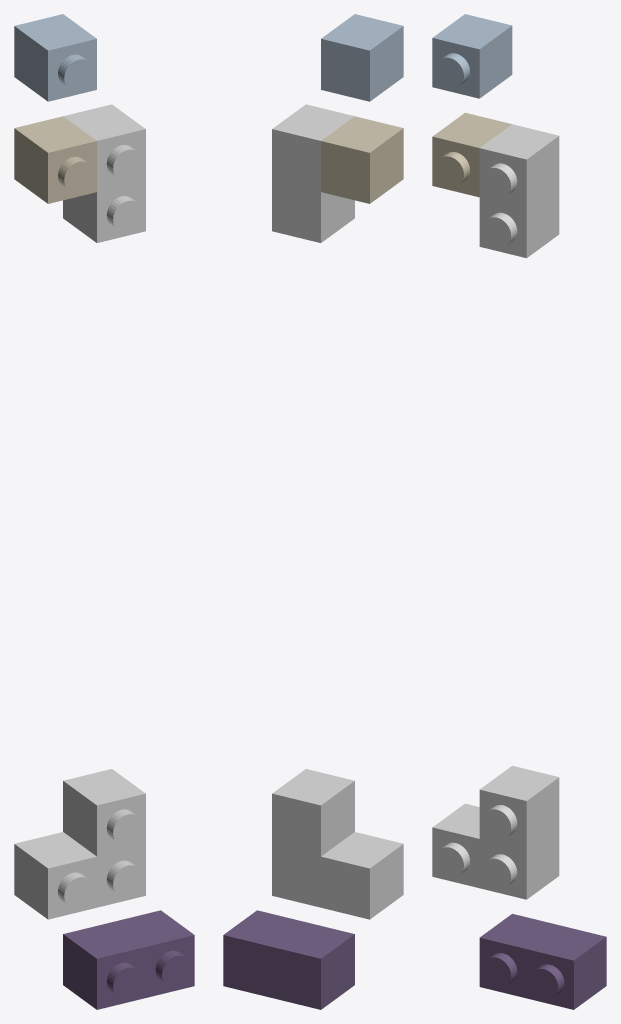
The model's file is current.glb.
3 renders of one model, left to right at view 1: azimuth 30°, elevation 25°; view 2: azimuth 150°, elevation 25°; view 3: azimuth 330°, elevation 25°, orthographic. The views are drawn at different scales.
Parts seen in each view (by area): view 1: world; view 2: world; view 3: world.
Boxes of the visible parts, box(x1,y1,x2,y2) form: world: box(14, 14, 194, 1009); world: box(223, 14, 403, 1009); world: box(432, 14, 606, 1009).
Bounding box in the file's own units: 24 × 152 × 11.4.
